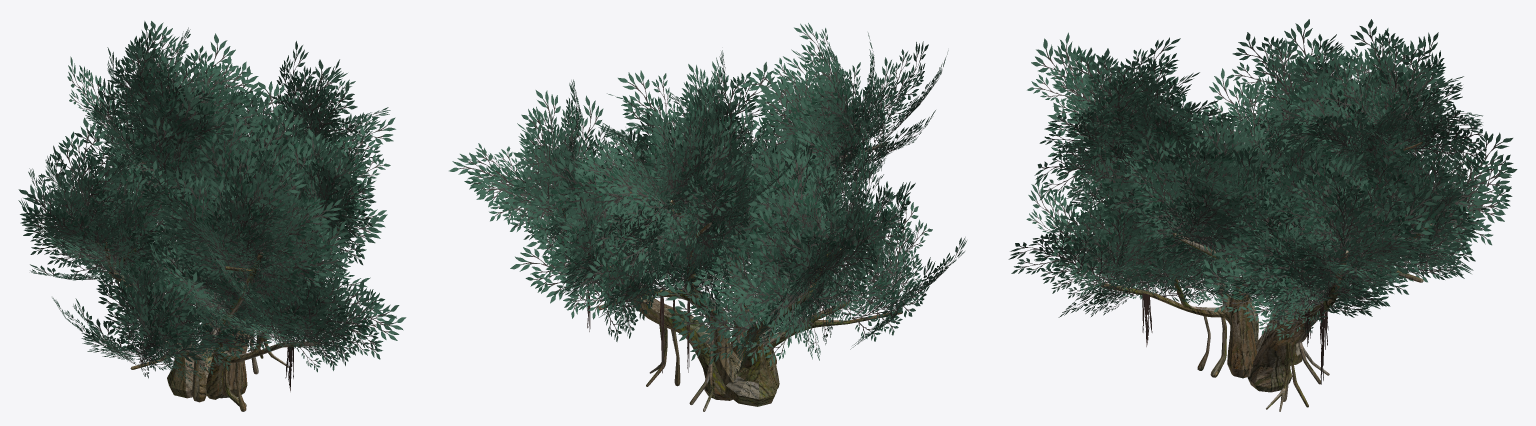
Rendered from seI3.fbx.
The picture shows the model from 3 angles, left to right: view 1: azimuth 30°, elevation 25°; view 2: azimuth 150°, elevation 25°; view 3: azimuth 270°, elevation 25°; orthographic projection. The views are drawn at different scales.
Parts seen in each view (by area): view 1: Cube, Cube|L3|Dupli|335, Cube|L3|Dupli|258, Cube|L3|Dupli|326, Cube|L3|Dupli|166, Cube|L3|Dupli|149, Cube|L3|Dupli|173, Cube|L3|Dupli|283, Cube|L3|Dupli|109, Cube|L3|Dupli|331, Cube|L3|Dupli|316, Cube|L3|Dupli|179 (+114 smaller); view 2: Cube, Cube|L3|Dupli|298, Cube|L3|Dupli|345, Cube|L3|Dupli|281, Cube|L3|Dupli|337, Cube|L3|Dupli|123, Cube|L3|Dupli|297, Cube|L3|Dupli|269, Cube|L3|Dupli|268, Cube|L3|Dupli|53, Cube|L3|Dupli|279, Cube|L3|Dupli|110 (+93 smaller); view 3: Cube, Cube|L3|Dupli|107, Cube|L3|Dupli|62, Cube|L3|Dupli|316, Cube|L3|Dupli|149, Cube|L3|Dupli|220, Cube|L3|Dupli|345, Cube|L3|Dupli|224, Cube|L3|Dupli|145, Cube|L3|Dupli|111, Cube|L3|Dupli|106, Cube|L3|Dupli|124 (+106 smaller).
Part boxes in pixels (<box>): Cube: <box>94,122,339,402</box>; Cube|L3|Dupli|335: <box>159,167,245,264</box>; Cube|L3|Dupli|258: <box>118,272,212,370</box>; Cube|L3|Dupli|326: <box>39,117,121,227</box>; Cube|L3|Dupli|166: <box>255,228,348,307</box>; Cube|L3|Dupli|149: <box>317,280,399,367</box>; Cube|L3|Dupli|173: <box>261,196,334,286</box>; Cube|L3|Dupli|283: <box>24,190,115,249</box>; Cube|L3|Dupli|109: <box>271,59,352,150</box>; Cube|L3|Dupli|331: <box>210,172,282,268</box>; Cube|L3|Dupli|316: <box>70,155,122,240</box>; Cube|L3|Dupli|179: <box>240,136,300,247</box>; Cube: <box>560,124,902,406</box>; Cube|L3|Dupli|298: <box>658,267,756,364</box>; Cube|L3|Dupli|345: <box>540,144,646,236</box>; Cube|L3|Dupli|281: <box>752,151,850,254</box>; Cube|L3|Dupli|337: <box>808,59,883,154</box>; Cube|L3|Dupli|123: <box>575,144,664,236</box>; Cube|L3|Dupli|297: <box>812,257,912,322</box>; Cube|L3|Dupli|269: <box>736,259,808,344</box>; Cube|L3|Dupli|268: <box>852,254,937,341</box>; Cube|L3|Dupli|53: <box>510,232,622,319</box>; Cube|L3|Dupli|279: <box>816,204,877,303</box>; Cube|L3|Dupli|110: <box>449,143,550,228</box>; Cube: <box>1101,141,1431,392</box>; Cube|L3|Dupli|107: <box>1299,170,1387,261</box>; Cube|L3|Dupli|62: <box>1416,131,1513,233</box>; Cube|L3|Dupli|316: <box>1227,32,1327,122</box>; Cube|L3|Dupli|149: <box>1008,231,1112,298</box>; Cube|L3|Dupli|220: <box>1108,160,1206,251</box>; Cube|L3|Dupli|345: <box>1399,103,1490,188</box>; Cube|L3|Dupli|224: <box>1159,175,1247,246</box>; Cube|L3|Dupli|145: <box>1078,193,1162,281</box>; Cube|L3|Dupli|111: <box>1322,160,1416,252</box>; Cube|L3|Dupli|106: <box>1268,170,1368,268</box>; Cube|L3|Dupli|124: <box>1338,19,1433,124</box>.
Size of the model in its own units: 19476 by 15682 by 20562.
